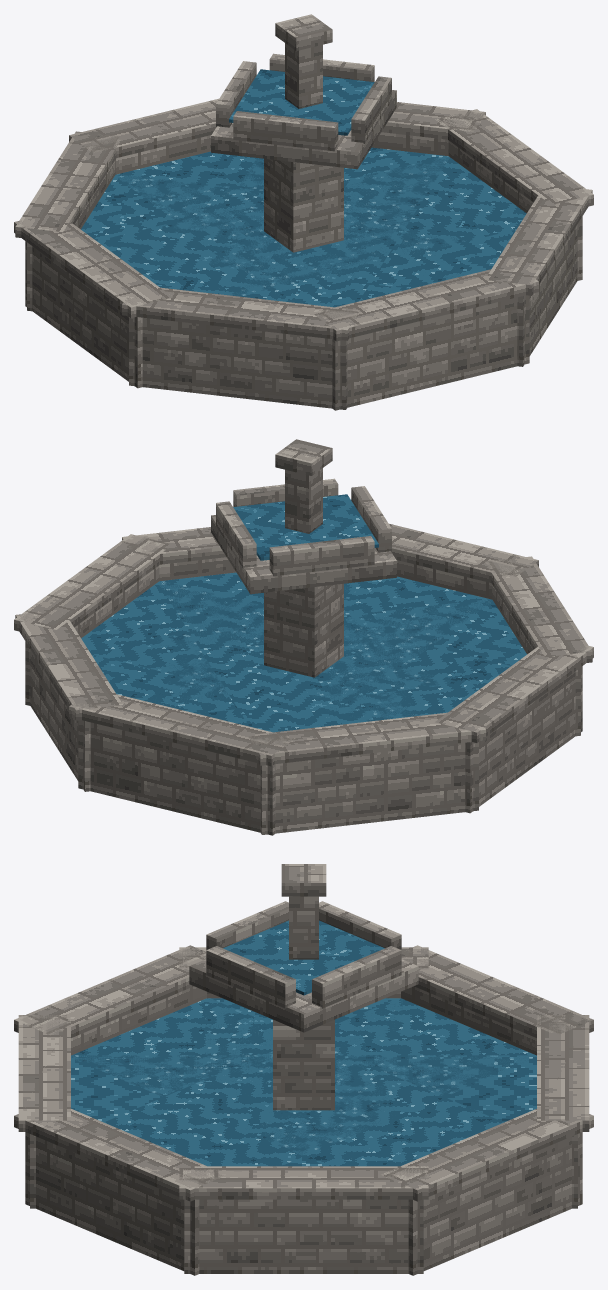
The model's file is fountain.glb.
The picture shows the model from 3 angles, top to bottom: view 1: azimuth 30°, elevation 25°; view 2: azimuth 150°, elevation 25°; view 3: azimuth 270°, elevation 25°; orthographic projection. The views are drawn at different scales.
Parts seen in each view (by area): view 1: fountain; view 2: fountain; view 3: fountain.
Part boxes in pixels (left/top/right/bottom): fountain: left=14, top=14, right=593, bottom=410; fountain: left=14, top=439, right=593, bottom=835; fountain: left=14, top=864, right=593, bottom=1275.
Size of the model in its own units: 4.65 by 2.52 by 4.65.
Materials: 2 (2 with a texture image).
